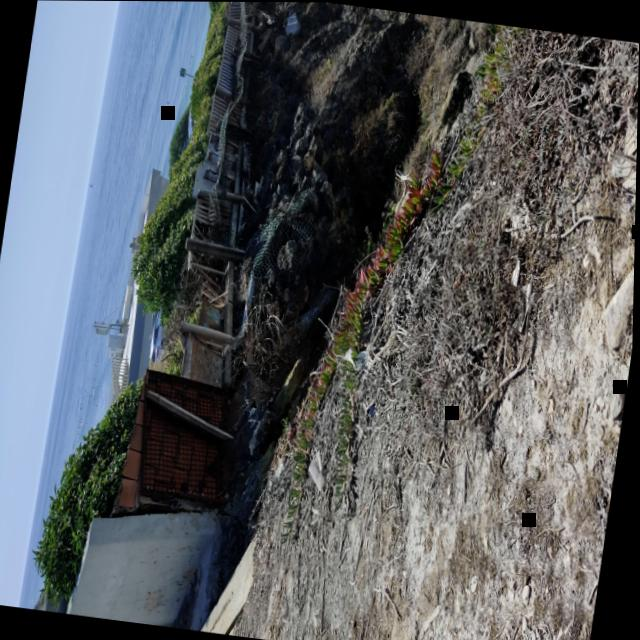Aluminium blister pack: (628, 115, 638, 154)
Disposable plastic cup: (310, 447, 326, 490)
Metal bottle cap: (371, 403, 376, 414)
Unlabeled litter: (607, 142, 632, 174), (345, 343, 369, 369), (520, 280, 531, 331)
